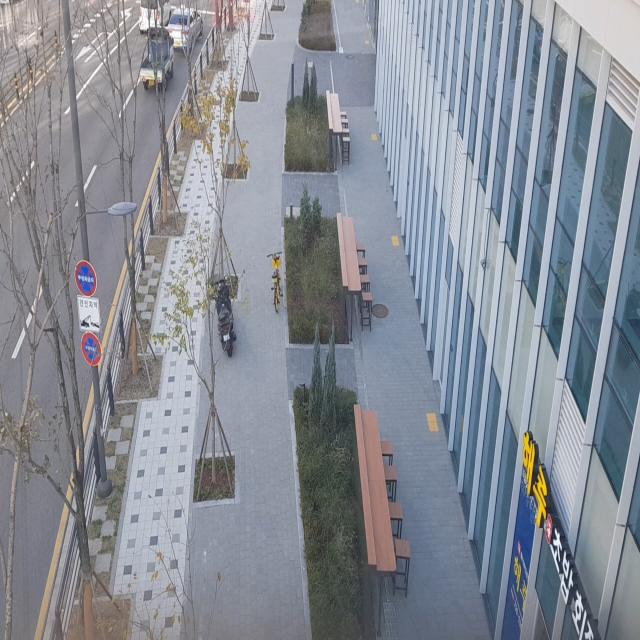Car: (165, 0, 207, 52), (137, 0, 175, 45)
Truck: (138, 26, 177, 100)
